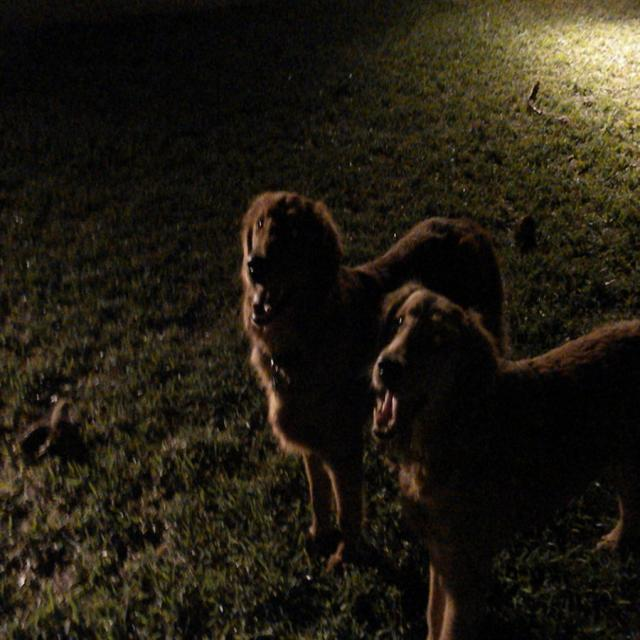Dog: (203, 188, 632, 618)
